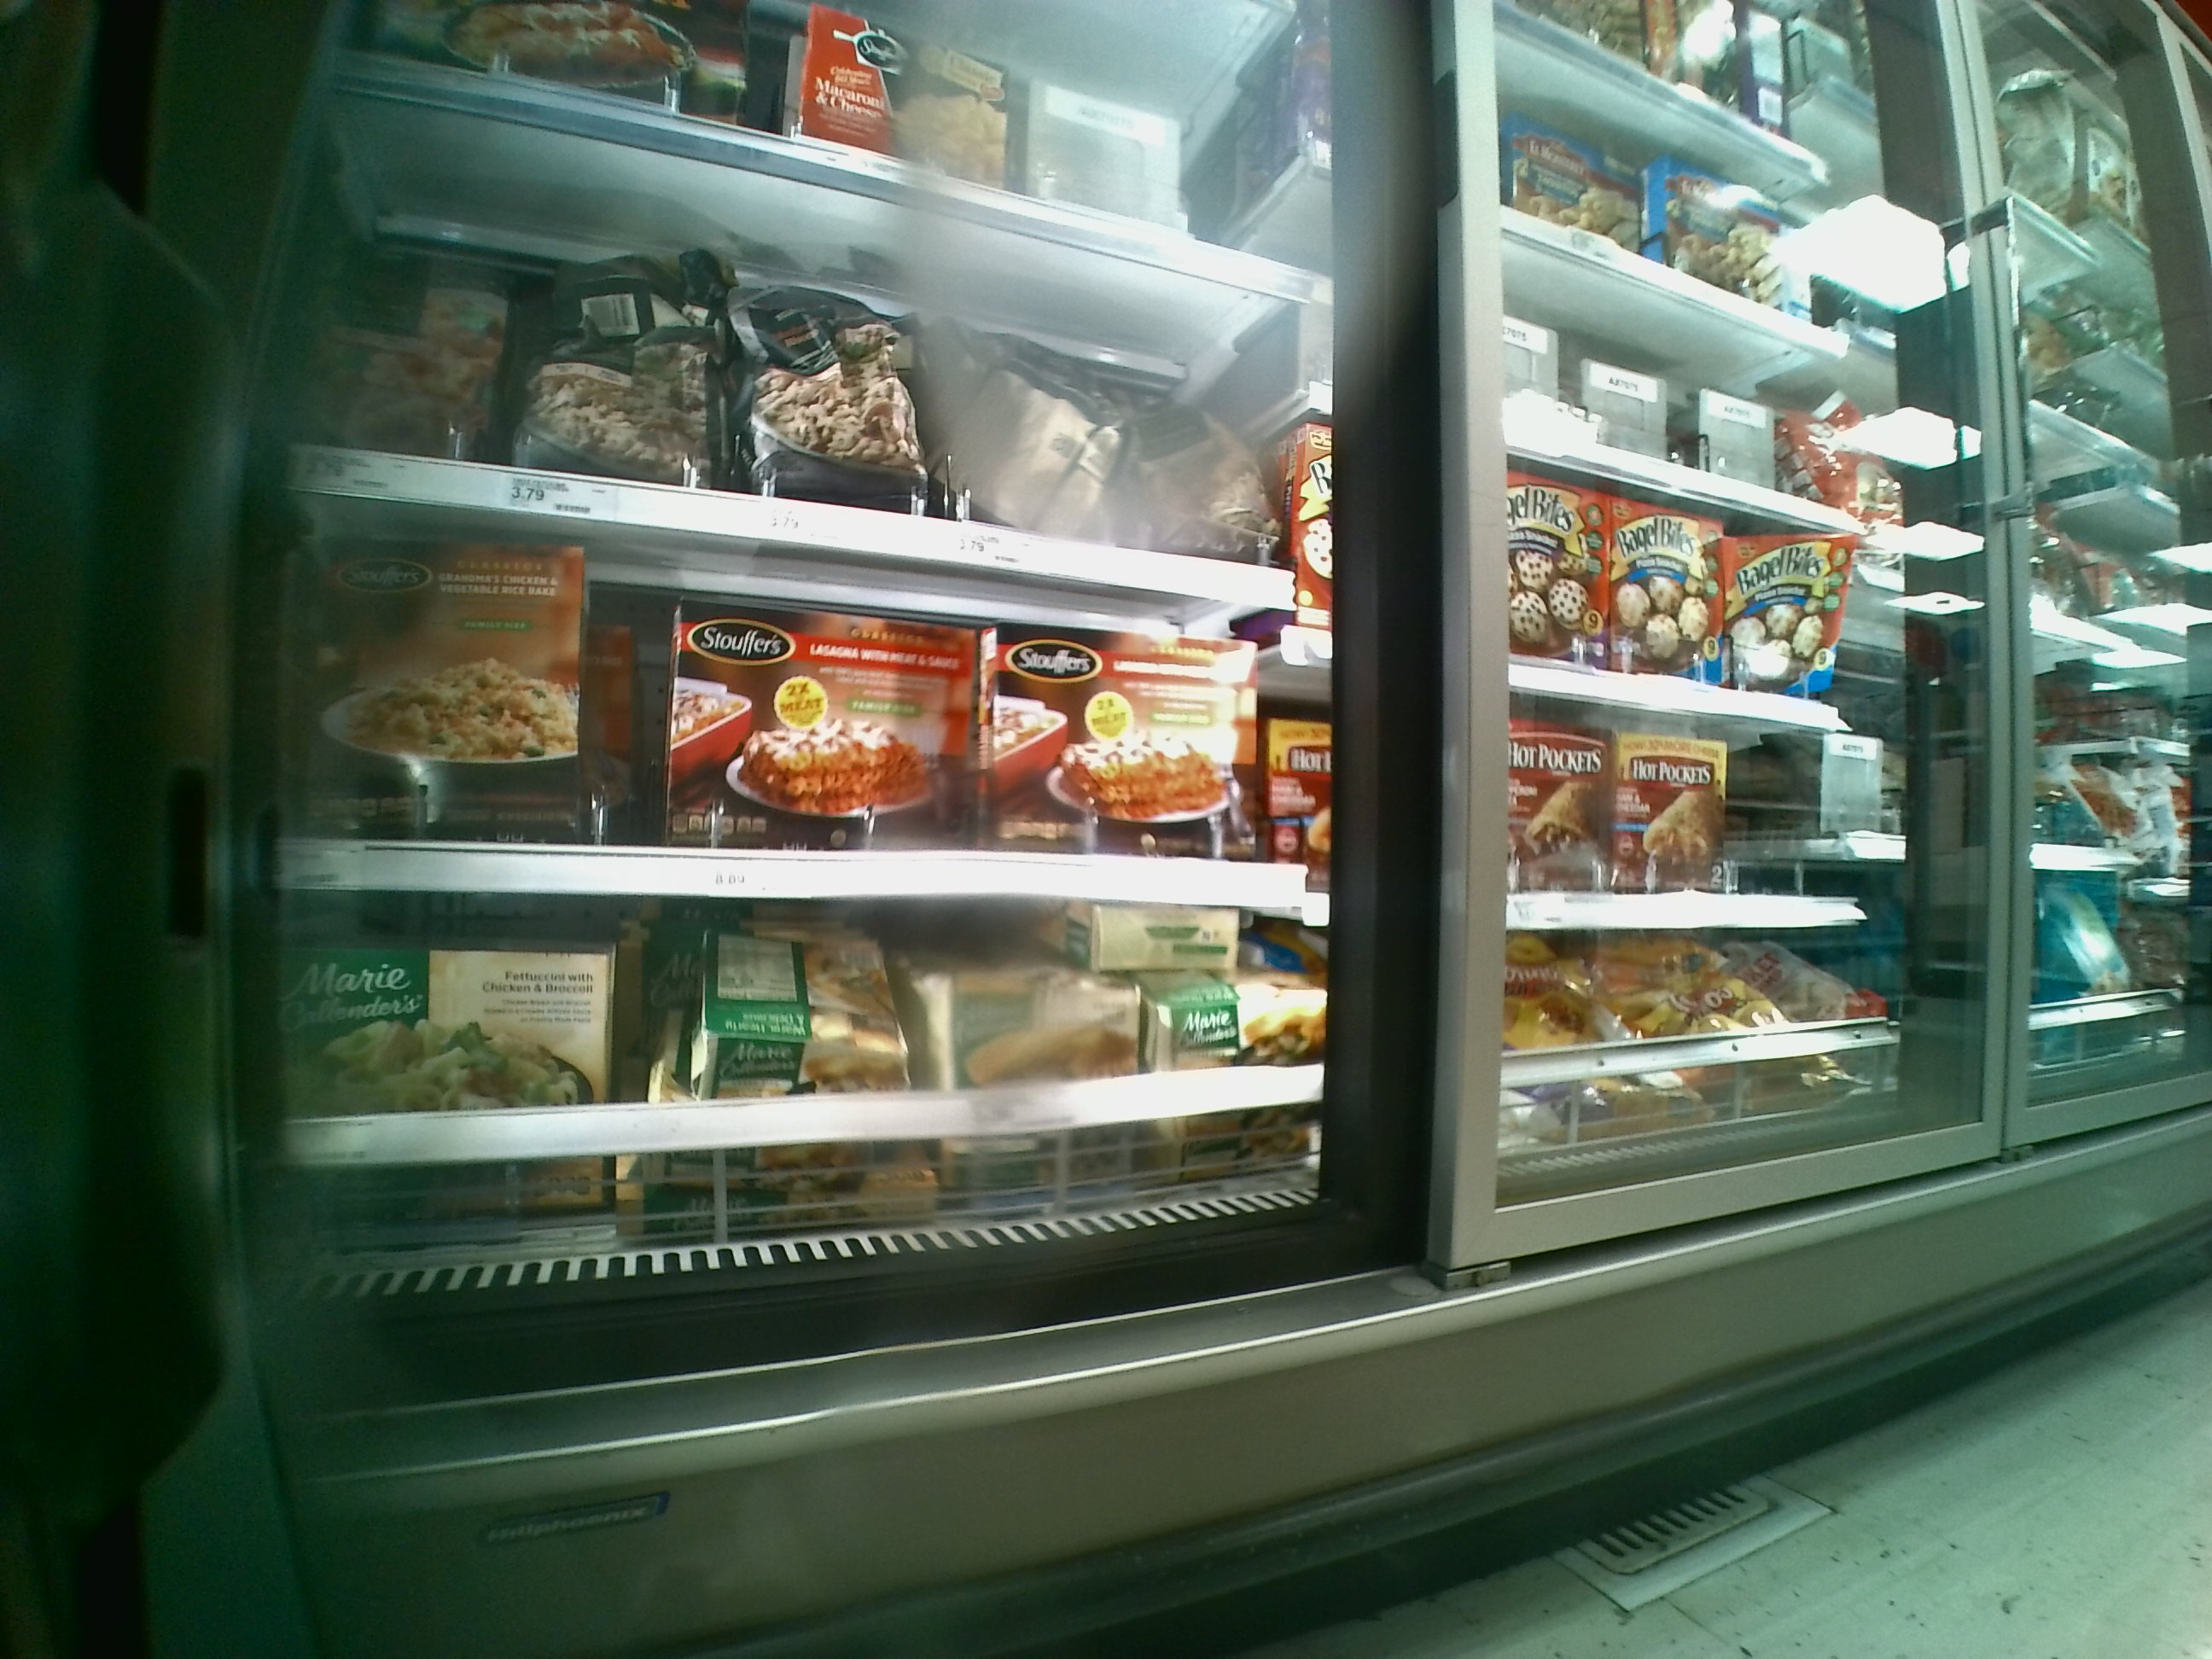shelf: (284, 897, 1334, 1269), (296, 188, 1312, 547), (280, 558, 1331, 903)
